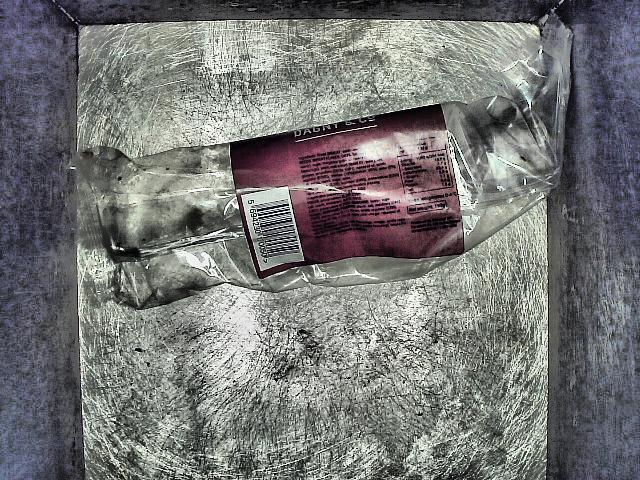Plastic: (27, 41, 586, 316)
